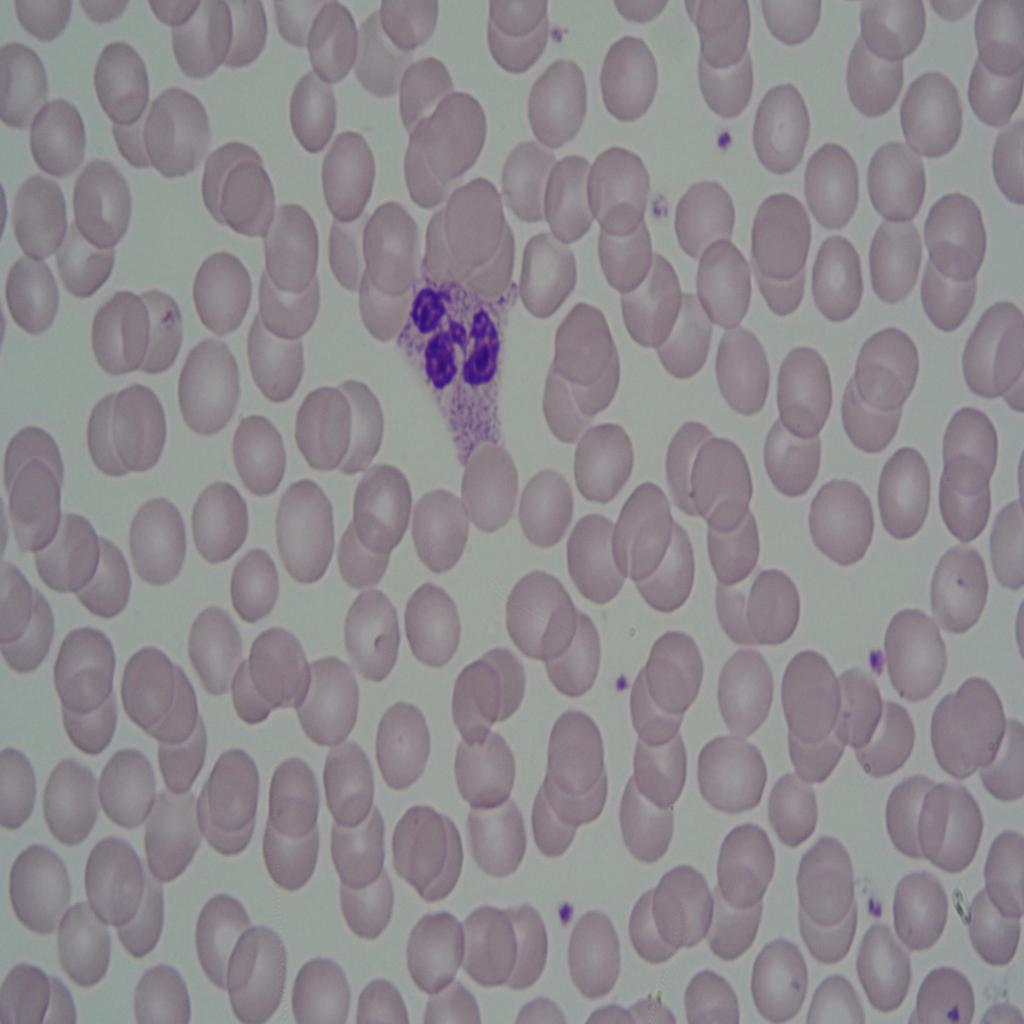Neutrofil: (398, 240, 520, 461)
Platelet: (540, 9, 571, 52), (605, 670, 634, 712), (861, 886, 885, 930), (710, 117, 742, 148), (868, 640, 891, 682), (556, 894, 581, 930)
